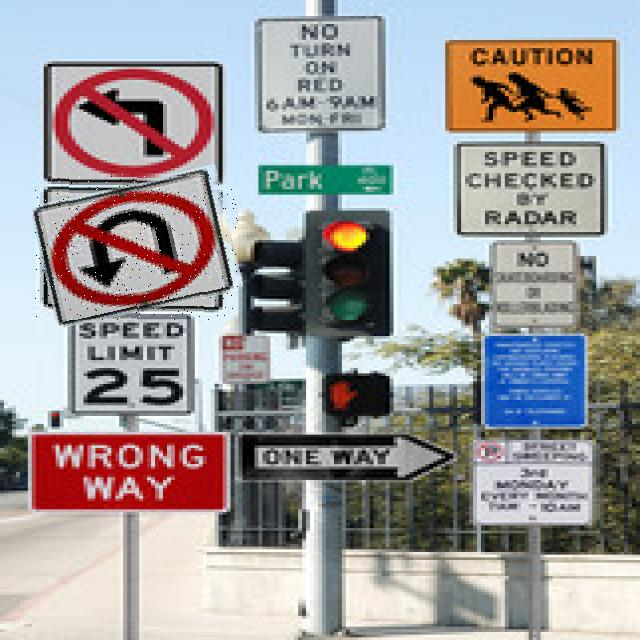no u turn: (35, 174, 238, 320)
